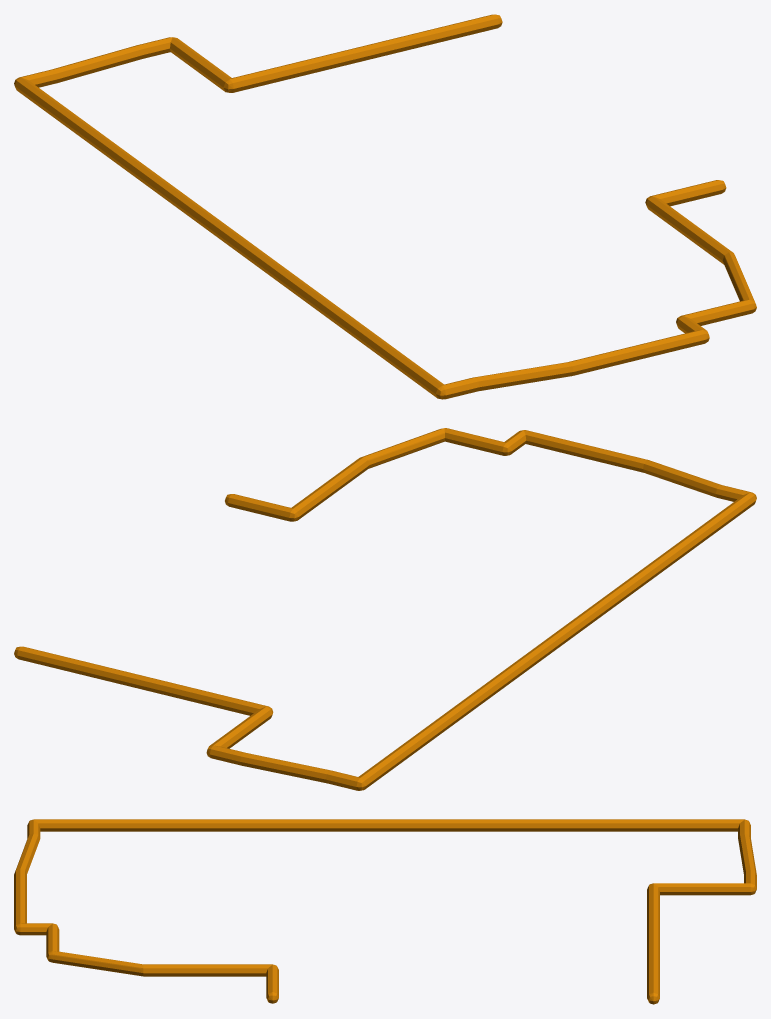
3 renders of one model, top to bottom at view 1: azimuth 30°, elevation 25°; view 2: azimuth 150°, elevation 25°; view 3: azimuth 270°, elevation 25°, orthographic. The views are drawn at different scales.
Size of the model in its own units: 654 by 20 by 1150.
